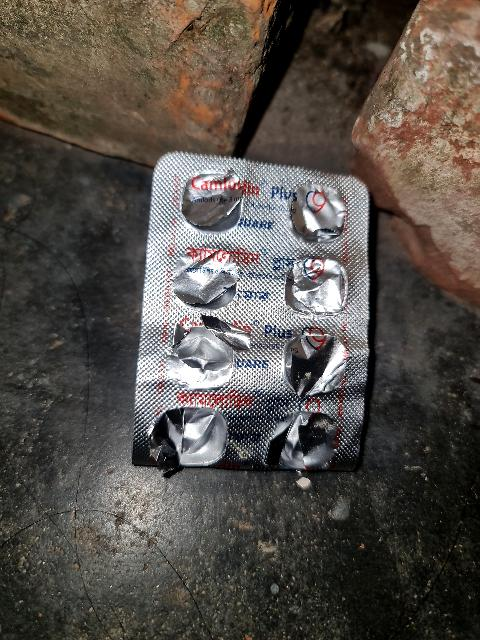medicine: (121, 149, 376, 485)
